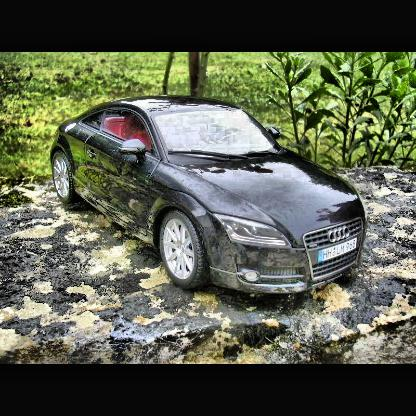Audi TTS Coupe 2012: (51, 96, 369, 296)
